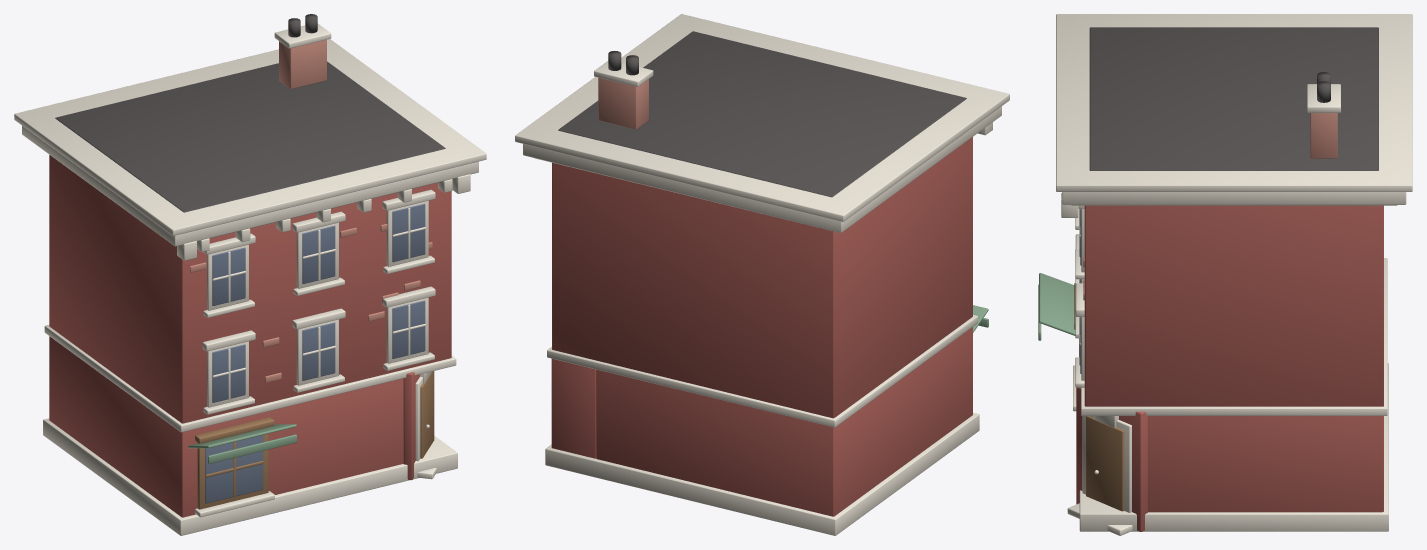
File: edificio_02.glb
3 views of the same model, side by side, from view 1: azimuth 30°, elevation 25°; view 2: azimuth 150°, elevation 25°; view 3: azimuth 270°, elevation 25° (orthographic). The views are drawn at different scales.
Parts seen in each view (by area): view 1: corpo_sup, tetto, corpo_pt_sx, cornicione_corona, zoccolo, cornicione_fascia, fascia_pt, vetrina_vetro_L, comignolo_fusto, fin_p1_0_vetro, fin_p2_0_vetro, fin_p2_1_vetro (+20 smaller); view 2: corpo_sup, tetto, corpo_pt_sx, cornicione_corona, zoccolo, cornicione_fascia, fascia_pt, corpo_pt_dx, comignolo_fusto, comignolo_cappello; view 3: corpo_sup, tetto, corpo_pt_dx, cornicione_corona, zoccolo, cornicione_fascia, fascia_pt, angolo_porta, angolo_pannello, tenda_negozio, comignolo_fusto, angolo_porta_cornice (+1 smaller).
Part boxes in pixels (x1=…): corpo_sup: x1=49, y1=155, x2=451, y2=423; tetto: x1=55, y1=61, x2=445, y2=212; corpo_pt_sx: x1=49, y1=336, x2=403, y2=517; cornicione_corona: x1=14, y1=39, x2=486, y2=235; zoccolo: x1=43, y1=418, x2=457, y2=535; cornicione_fascia: x1=22, y1=126, x2=478, y2=246; fascia_pt: x1=44, y1=325, x2=456, y2=432; vetrina_vetro_L: x1=205, y1=435, x2=263, y2=503; comignolo_fusto: x1=279, y1=39, x2=326, y2=89; fin_p1_0_vetro: x1=212, y1=344, x2=245, y2=402; fin_p2_0_vetro: x1=212, y1=247, x2=245, y2=305; fin_p2_1_vetro: x1=302, y1=225, x2=335, y2=283; corpo_sup: x1=552, y1=137, x2=972, y2=418; tetto: x1=558, y1=31, x2=966, y2=197; corpo_pt_sx: x1=596, y1=327, x2=972, y2=516; cornicione_corona: x1=515, y1=14, x2=1009, y2=221; zoccolo: x1=545, y1=412, x2=979, y2=535; cornicione_fascia: x1=523, y1=106, x2=1001, y2=232; fascia_pt: x1=547, y1=315, x2=977, y2=427; corpo_pt_dx: x1=551, y1=358, x2=596, y2=458; comignolo_fusto: x1=598, y1=77, x2=648, y2=129; comignolo_cappello: x1=594, y1=61, x2=653, y2=86; corpo_sup: x1=1084, y1=205, x2=1383, y2=406; tetto: x1=1089, y1=27, x2=1378, y2=170; corpo_pt_dx: x1=1148, y1=416, x2=1383, y2=512; cornicione_corona: x1=1056, y1=14, x2=1412, y2=191; zoccolo: x1=1079, y1=363, x2=1388, y2=531; cornicione_fascia: x1=1062, y1=192, x2=1406, y2=204; fascia_pt: x1=1081, y1=258, x2=1387, y2=415; angolo_porta: x1=1086, y1=416, x2=1124, y2=511; angolo_pannello: x1=1076, y1=387, x2=1147, y2=531; tenda_negozio: x1=1039, y1=273, x2=1075, y2=335; comignolo_fusto: x1=1310, y1=113, x2=1337, y2=158; angolo_porta_cornice: x1=1082, y1=416, x2=1131, y2=512.
Size of the model in its own units: 8.15 by 9.46 by 7.51.
